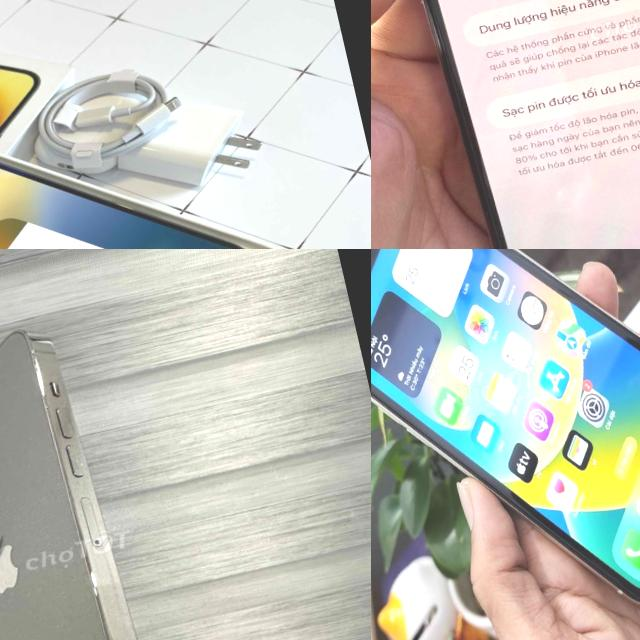gen_11: (371, 249, 640, 640), (371, 0, 640, 249)
gen_12_13: (0, 306, 210, 640)
gen_14: (0, 87, 275, 249)
